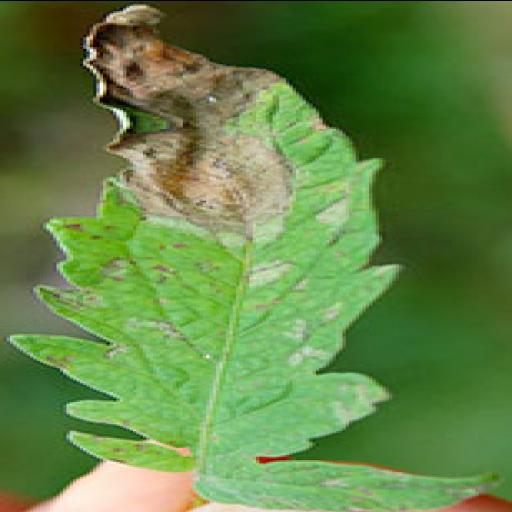Late Blight: (10, 4, 502, 512)
